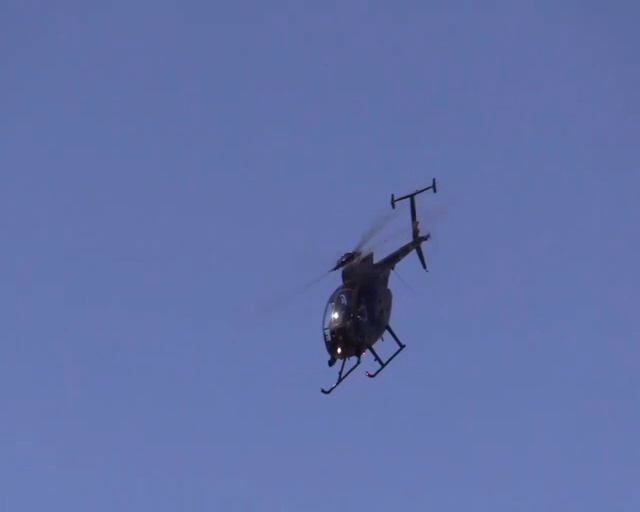HELICOPTER: (276, 175, 444, 398)
